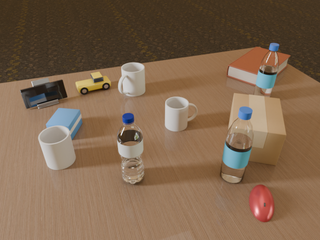book: (227, 47, 290, 86)
bottle: (220, 106, 254, 183), (117, 113, 144, 184), (253, 43, 279, 97)
box: (229, 93, 286, 165), (46, 108, 82, 140)
cup: (39, 126, 76, 170), (165, 97, 197, 131), (118, 63, 145, 96)
mouse: (249, 185, 274, 222)
phone: (20, 80, 67, 109)
toy_car: (76, 72, 111, 94)
